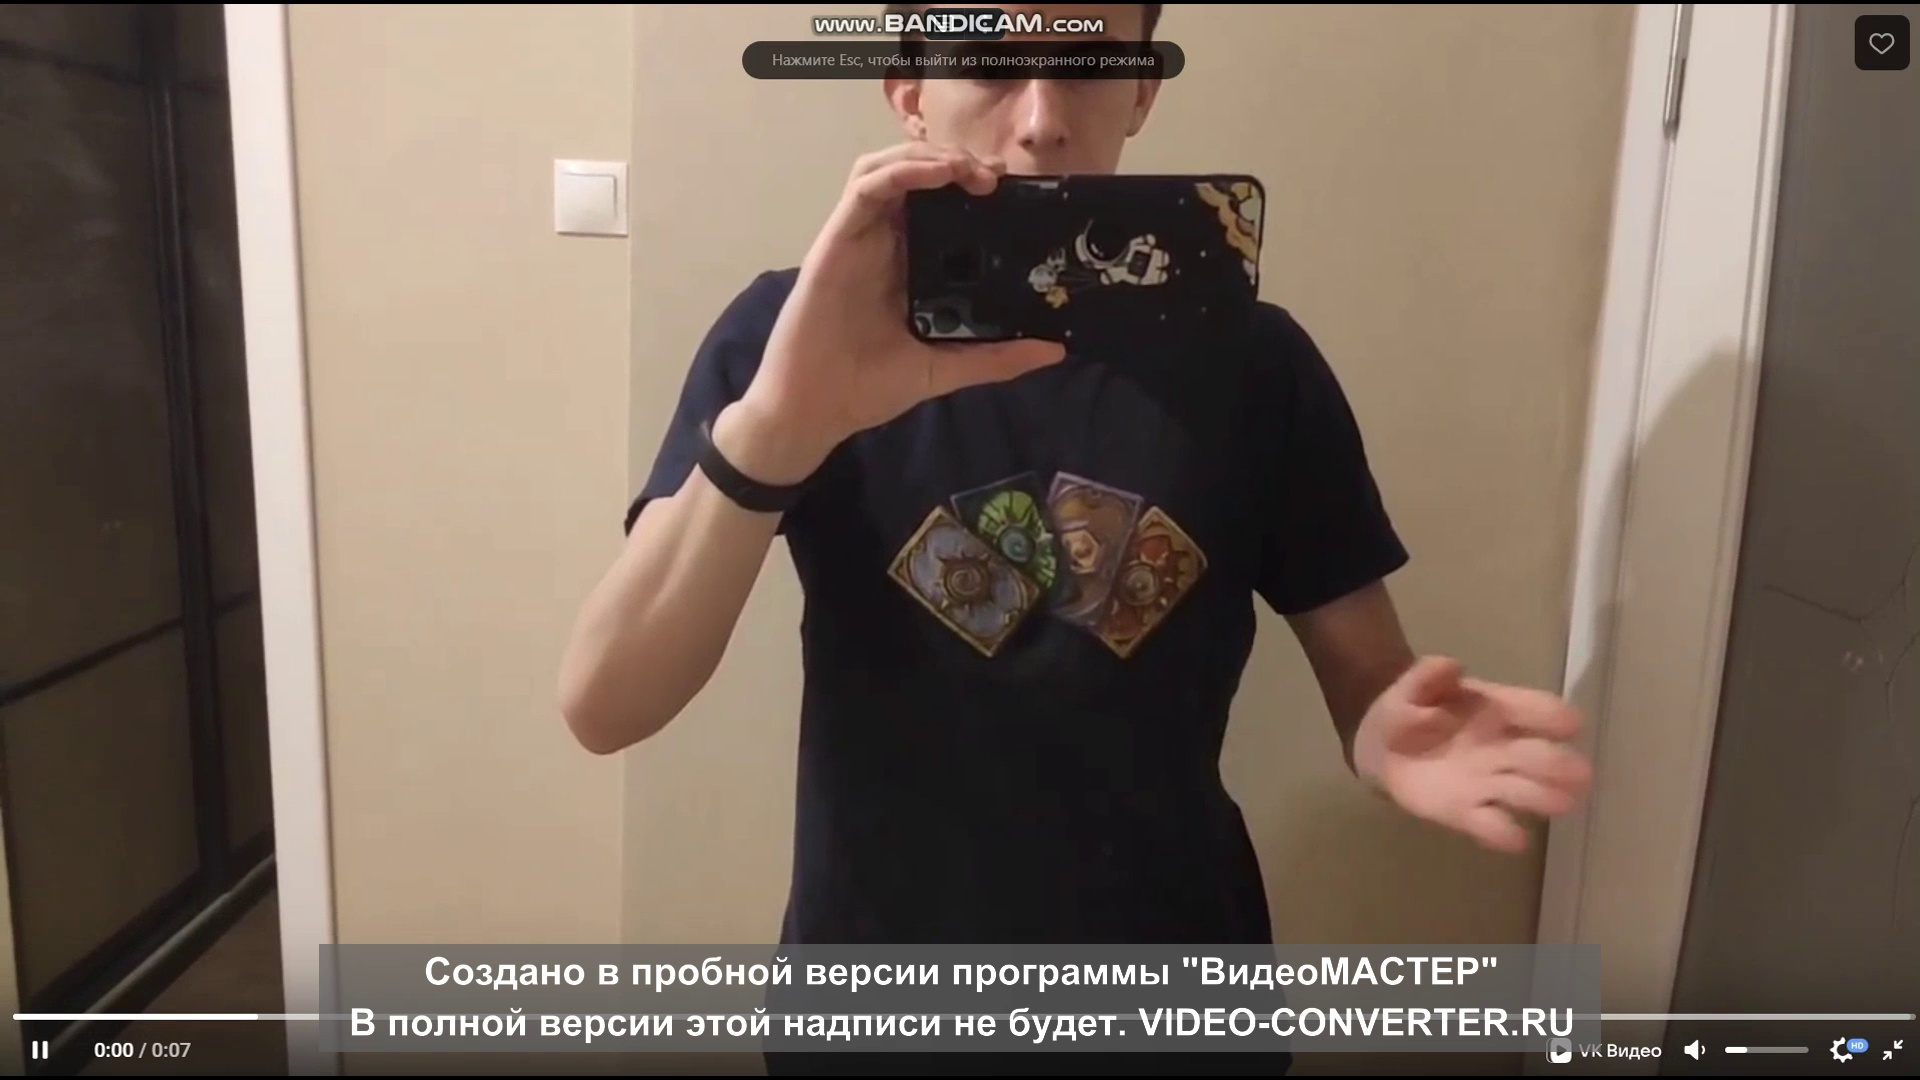Ладонь: (1370, 655, 1594, 858)
